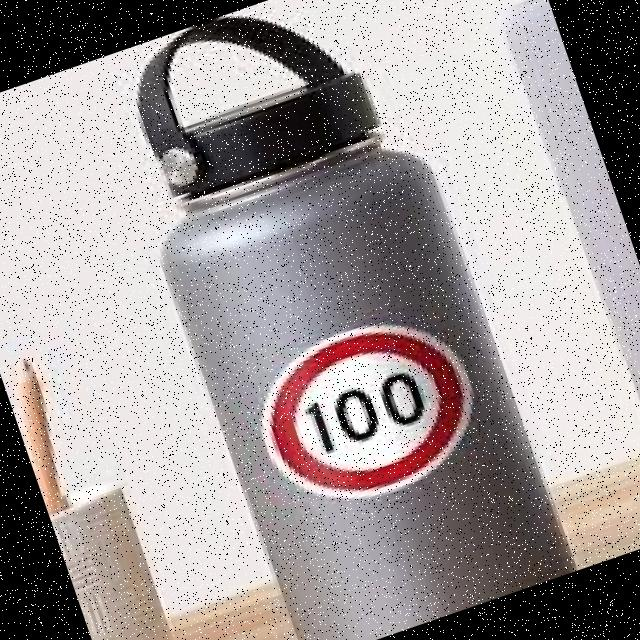speed_limit_100: (234, 286, 515, 539)
